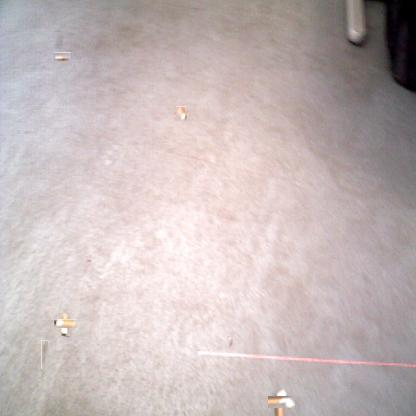dirty: (271, 392, 291, 412), (57, 316, 74, 332), (175, 107, 188, 121), (53, 52, 71, 61)
mark: (41, 340, 48, 369), (227, 336, 233, 348), (84, 256, 92, 263)
